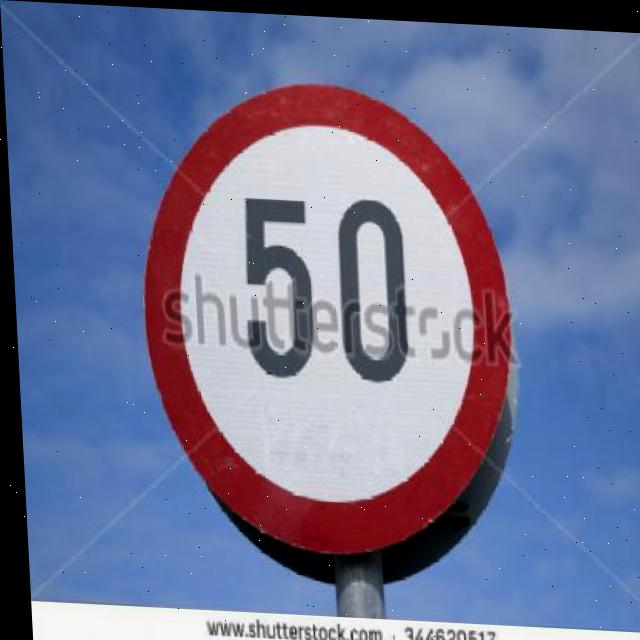Speed limit 50: (127, 68, 526, 572)
